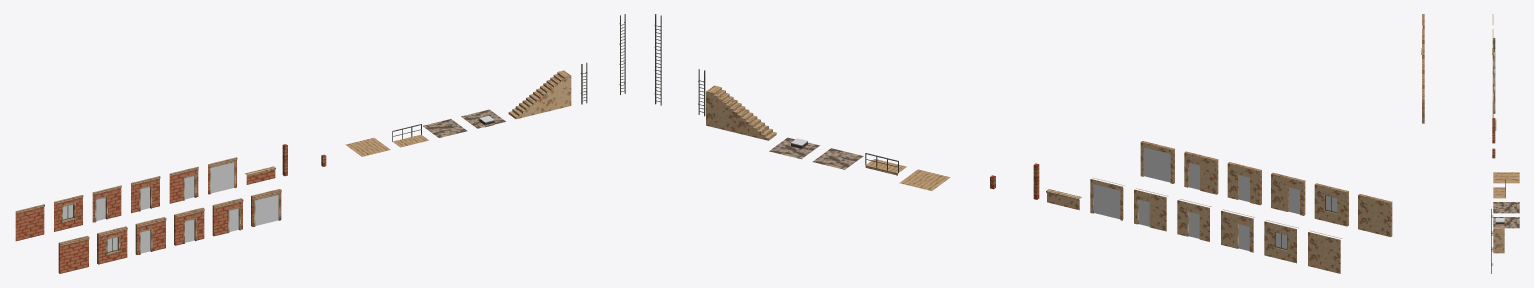
Rendered from building_kit_pieces.glb.
3 renders of one model, left to right at view 1: azimuth 30°, elevation 25°; view 2: azimuth 150°, elevation 25°; view 3: azimuth 270°, elevation 25°, orthographic. The views are drawn at different scales.
Parts seen in each view (by area): view 1: stair, wallB_solid, wall_solid, wallB_window, wallB_door_R, wallB_door_L, wall_window, wallB_door_C, wall_door_L, wall_door_R, wall_door_C, col_wall_wide_shutter (+7 smaller); view 2: stair, wallB_solid, wall_solid, wallB_window, wall_window, wallB_door_R, wallB_door_C, wallB_door_L, wall_door_C, wall_door_L, wall_door_R, col_wallB_wide_shutter (+9 smaller); view 3: stair, roof, floor, roof_hatch, floor_hole, wallB_wide, corner, wall_wide, ladder_2f, wall_door_C, wall_door_L.
Part boxes in pixels (x1,y1,x2,y2): stair: [508, 70, 571, 119]; wallB_solid: [58, 235, 89, 273]; wall_solid: [15, 204, 44, 241]; wallB_window: [97, 226, 127, 264]; wallB_door_R: [212, 198, 243, 236]; wallB_door_L: [135, 217, 166, 254]; wall_window: [54, 195, 83, 231]; wallB_door_C: [174, 207, 204, 245]; wall_door_L: [92, 185, 121, 222]; wall_door_R: [169, 167, 198, 203]; wall_door_C: [131, 176, 160, 213]; col_wall_wide_shutter: [210, 162, 234, 193]; stair: [706, 85, 776, 140]; wallB_solid: [1358, 194, 1392, 237]; wall_solid: [1308, 230, 1341, 273]; wallB_window: [1314, 183, 1348, 226]; wall_window: [1264, 220, 1298, 263]; wallB_door_R: [1184, 151, 1218, 194]; wallB_door_C: [1227, 162, 1261, 205]; wallB_door_L: [1271, 172, 1305, 215]; wall_door_C: [1177, 199, 1211, 241]; wall_door_L: [1221, 209, 1254, 252]; wall_door_R: [1134, 188, 1168, 231]; col_wallB_wide_shutter: [1144, 147, 1170, 182]; stair: [1493, 226, 1504, 253]; roof: [1493, 202, 1519, 213]; floor: [1493, 172, 1519, 183]; roof_hatch: [1493, 217, 1519, 228]; floor_hole: [1493, 178, 1505, 198]; wallB_wide: [1422, 88, 1424, 123]; corner: [1492, 118, 1495, 143]; wall_wide: [1492, 89, 1495, 117]; ladder_2f: [1491, 208, 1492, 273]; wall_door_C: [1492, 59, 1495, 85]; wall_door_L: [1492, 44, 1495, 68].
Size of the model in its own units: 63.28 by 8.1 by 11.14.
Materials: 11 (9 with a texture image).
